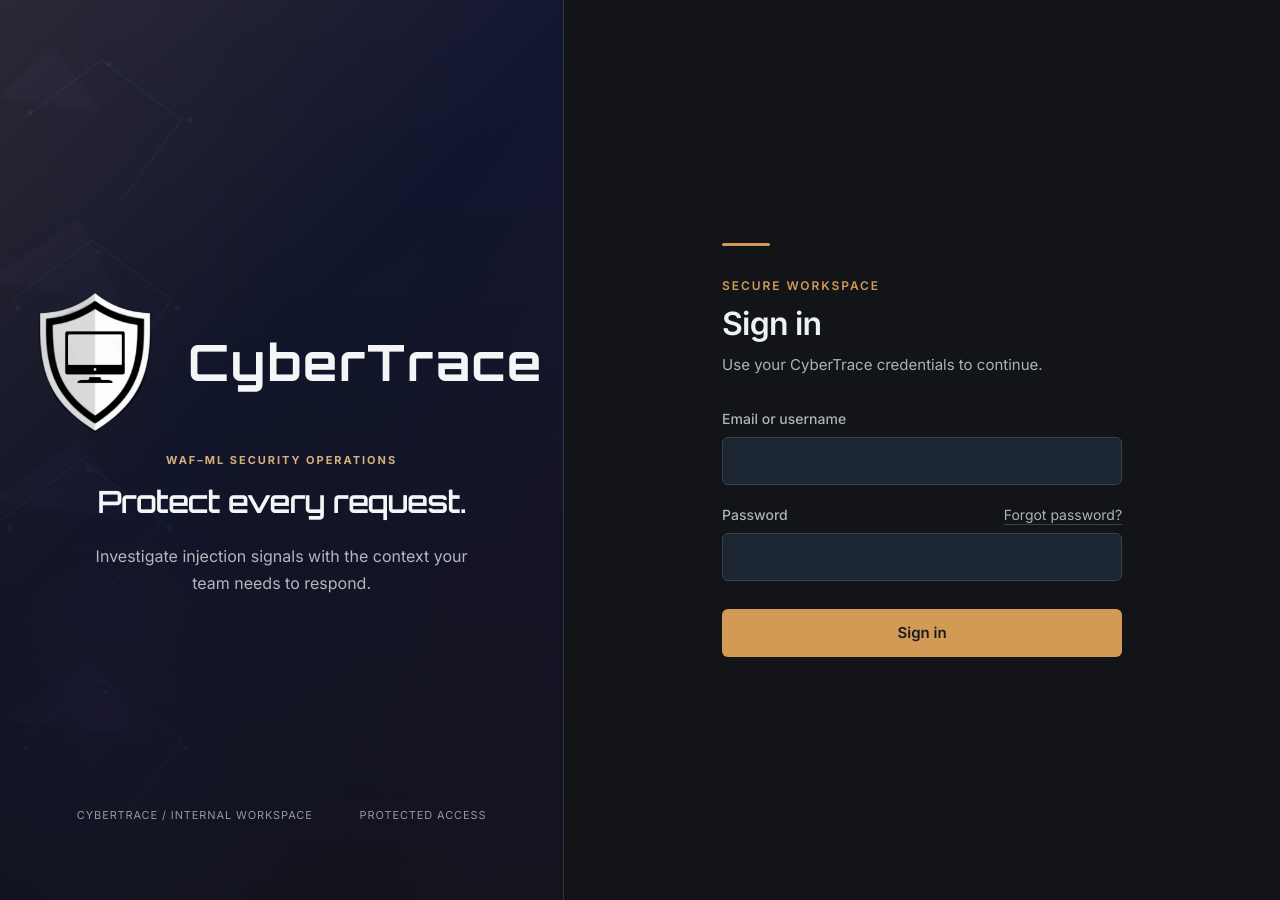
Test: LoginPage › shows fallback message on unexpected sign-in failure
This screenshot has width=1280, height=900.
Type "analyst@example.test" into the field labelled "Email or username" at point(922, 461), box [722,437,1122,485]
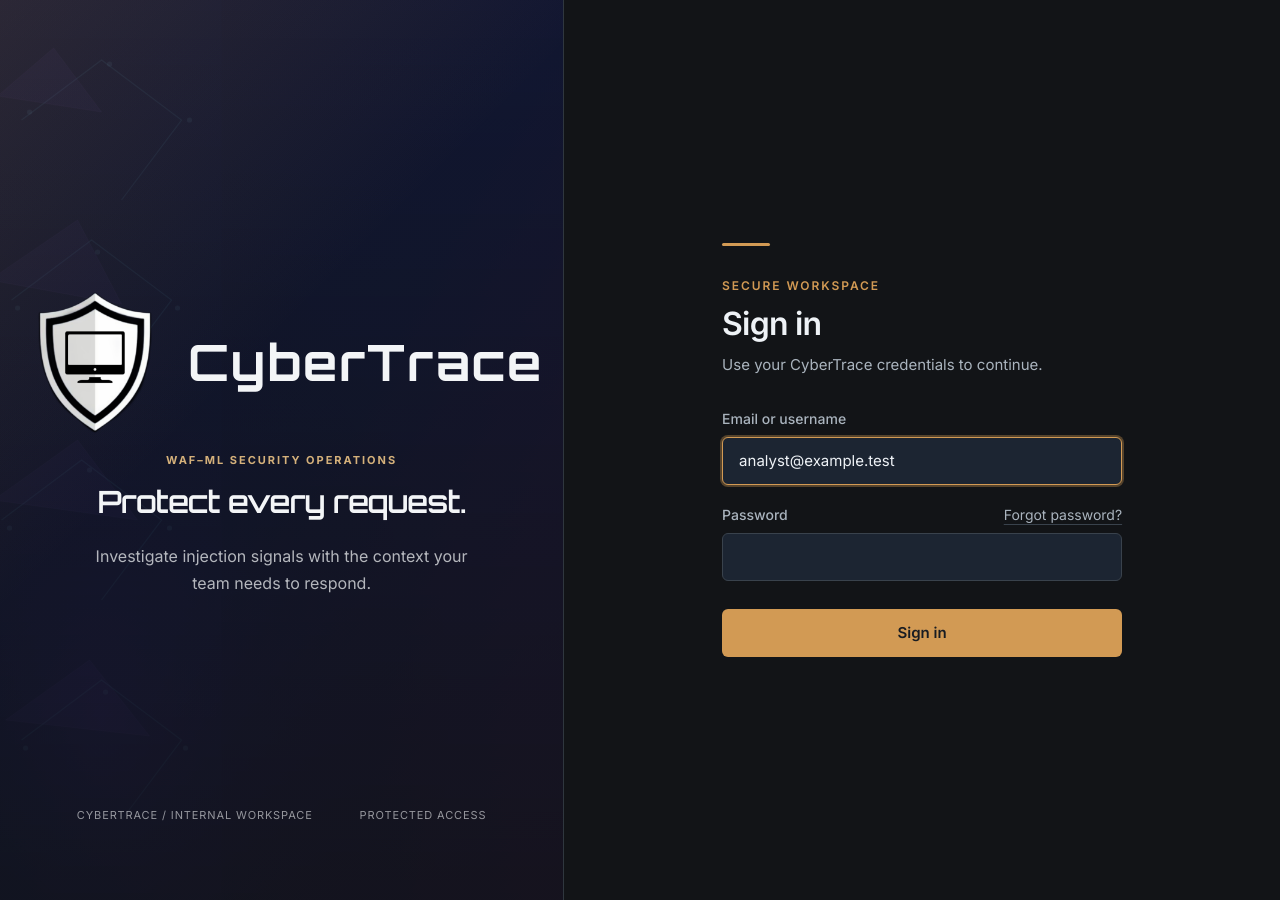
Type "pw" into the password field labelled "Password" at point(922, 557), box [722,533,1122,581]
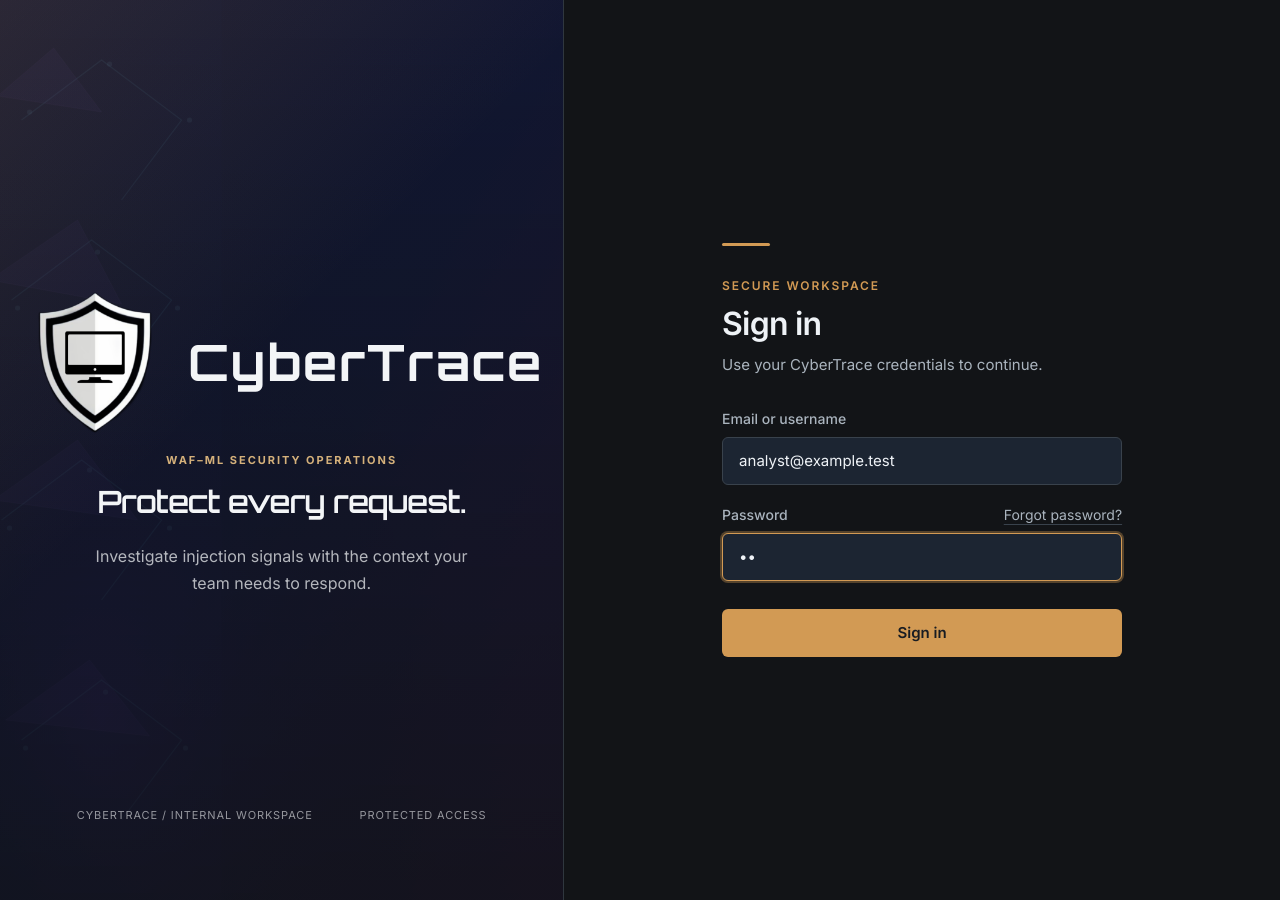
Click the button "Sign in" at point(922, 633), box [722,609,1122,657]
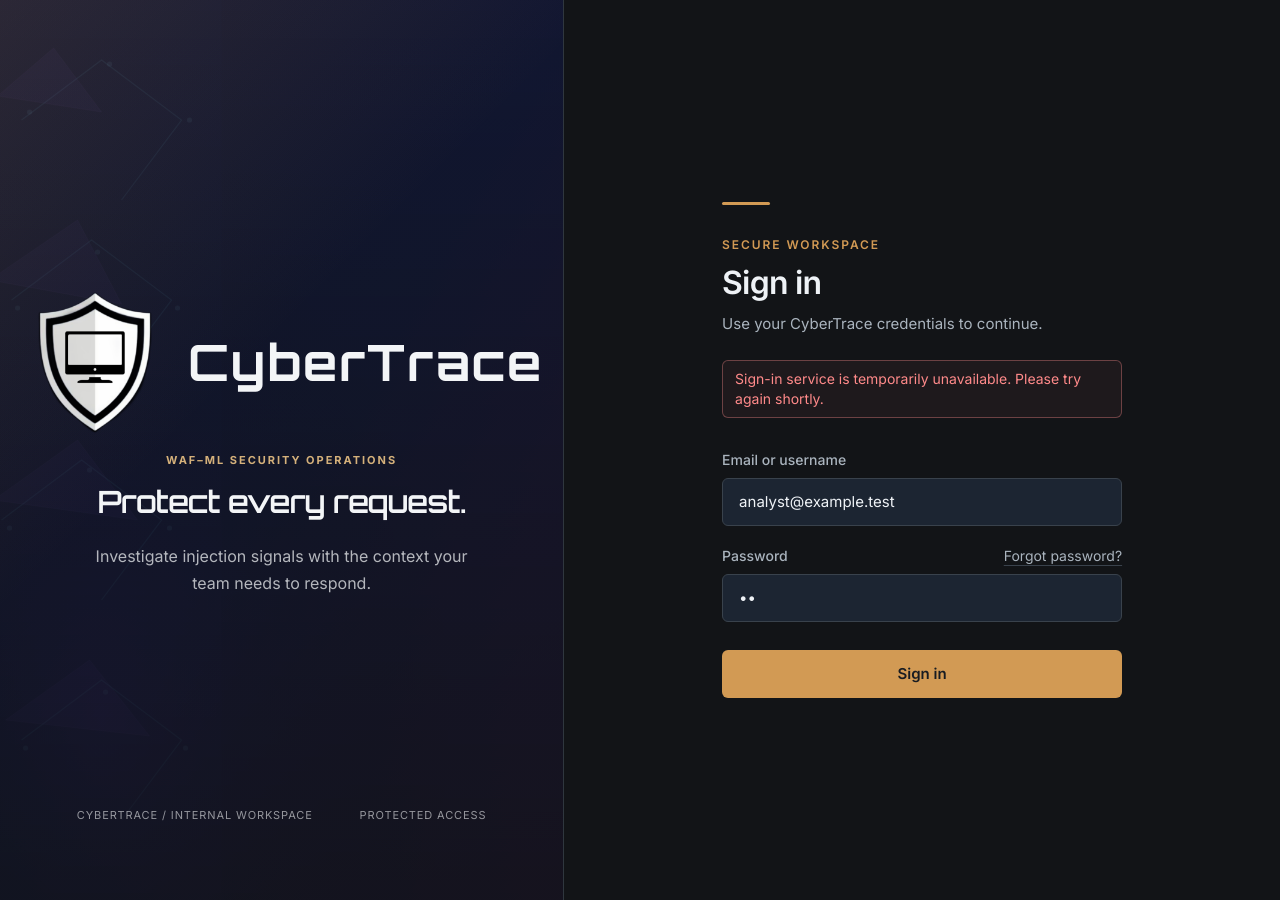
Expected: the text "Sign-in service is temporarily unavailable. Please try again shortly." is shown, [722,360,1122,418]
